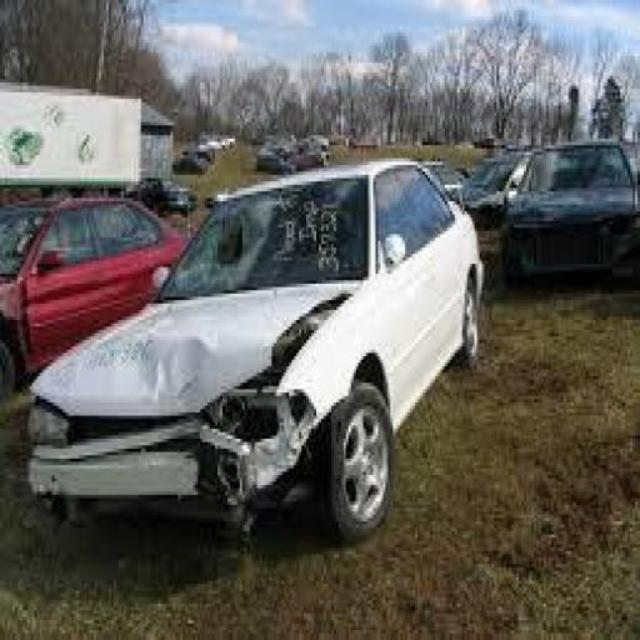dislocated part: (32, 277, 365, 522)
